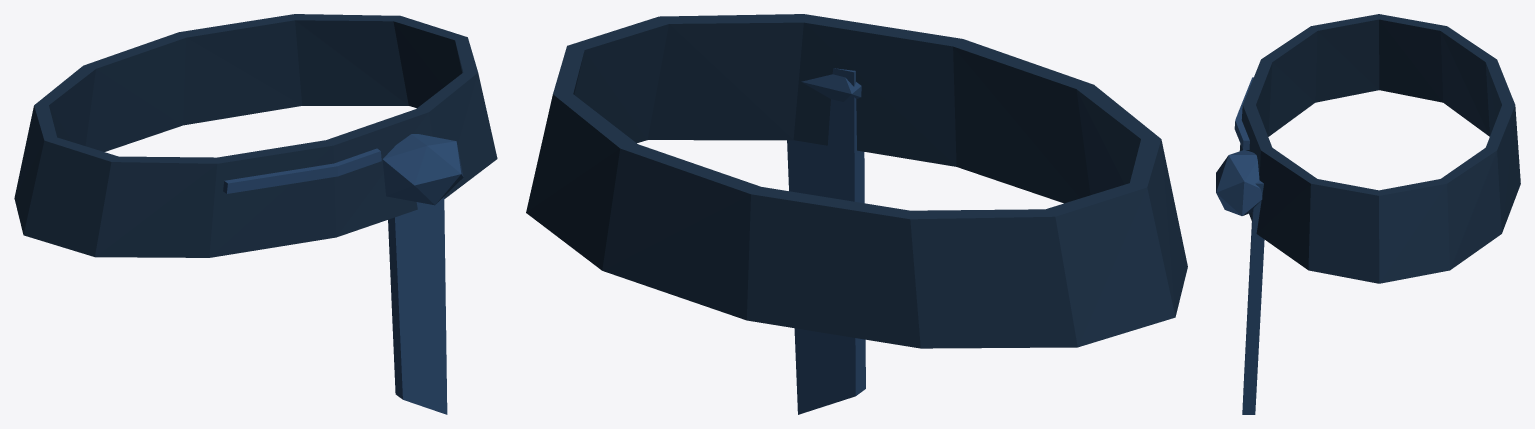
File: cloth_waist-female.glb
3 renders of one model, left to right at view 1: azimuth 30°, elevation 25°; view 2: azimuth 150°, elevation 25°; view 3: azimuth 270°, elevation 25°, orthographic. The views are drawn at different scales.
Parts seen in each view (by area): view 1: cloth waist band, Sash falling end, Sash knot, Sash folded waist seam; view 2: cloth waist band, Sash falling end, Sash knot; view 3: cloth waist band, Sash falling end, Sash knot, Sash folded waist seam.
Part boxes in pixels (x1=…): cloth waist band: x1=14, y1=14, x2=497, y2=257; Sash falling end: x1=388, y1=197, x2=447, y2=414; Sash knot: x1=382, y1=134, x2=463, y2=205; Sash folded waist seam: x1=223, y1=148, x2=381, y2=193; cloth waist band: x1=526, y1=14, x2=1187, y2=348; Sash falling end: x1=787, y1=68, x2=865, y2=414; Sash knot: x1=801, y1=74, x2=861, y2=101; cloth waist band: x1=1239, y1=14, x2=1520, y2=283; Sash falling end: x1=1242, y1=180, x2=1264, y2=414; Sash knot: x1=1216, y1=149, x2=1262, y2=215; Sash folded waist seam: x1=1234, y1=77, x2=1253, y2=149.
Bounding box in the file's own units: 1.88 × 1.15 × 1.21.
